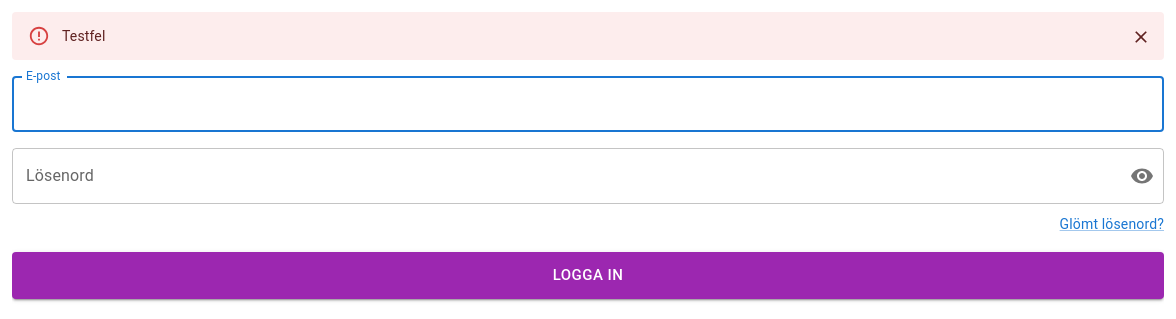
Scenario: LoginForm › should clear error when close button is clicked
Expected: the message "Testfel" is shown, x1=12 y1=12 x2=1164 y2=60
Click the button named "close" at (1141,37), box x1=1126 y1=22 x2=1156 y2=52
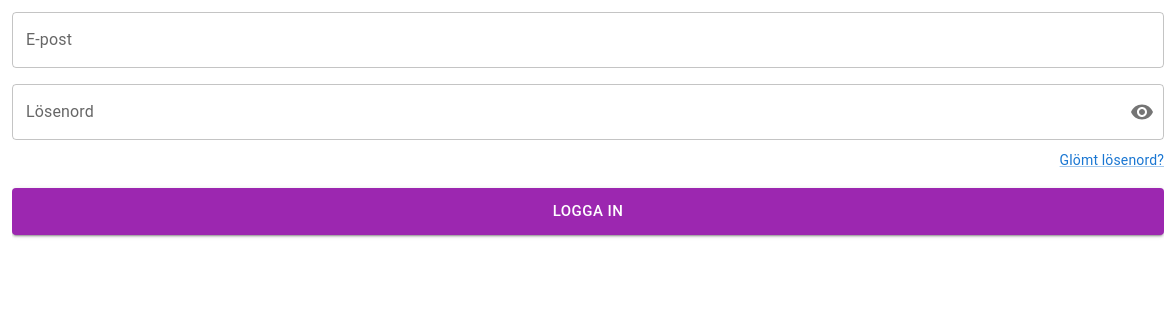
Now the message "Testfel" is gone
